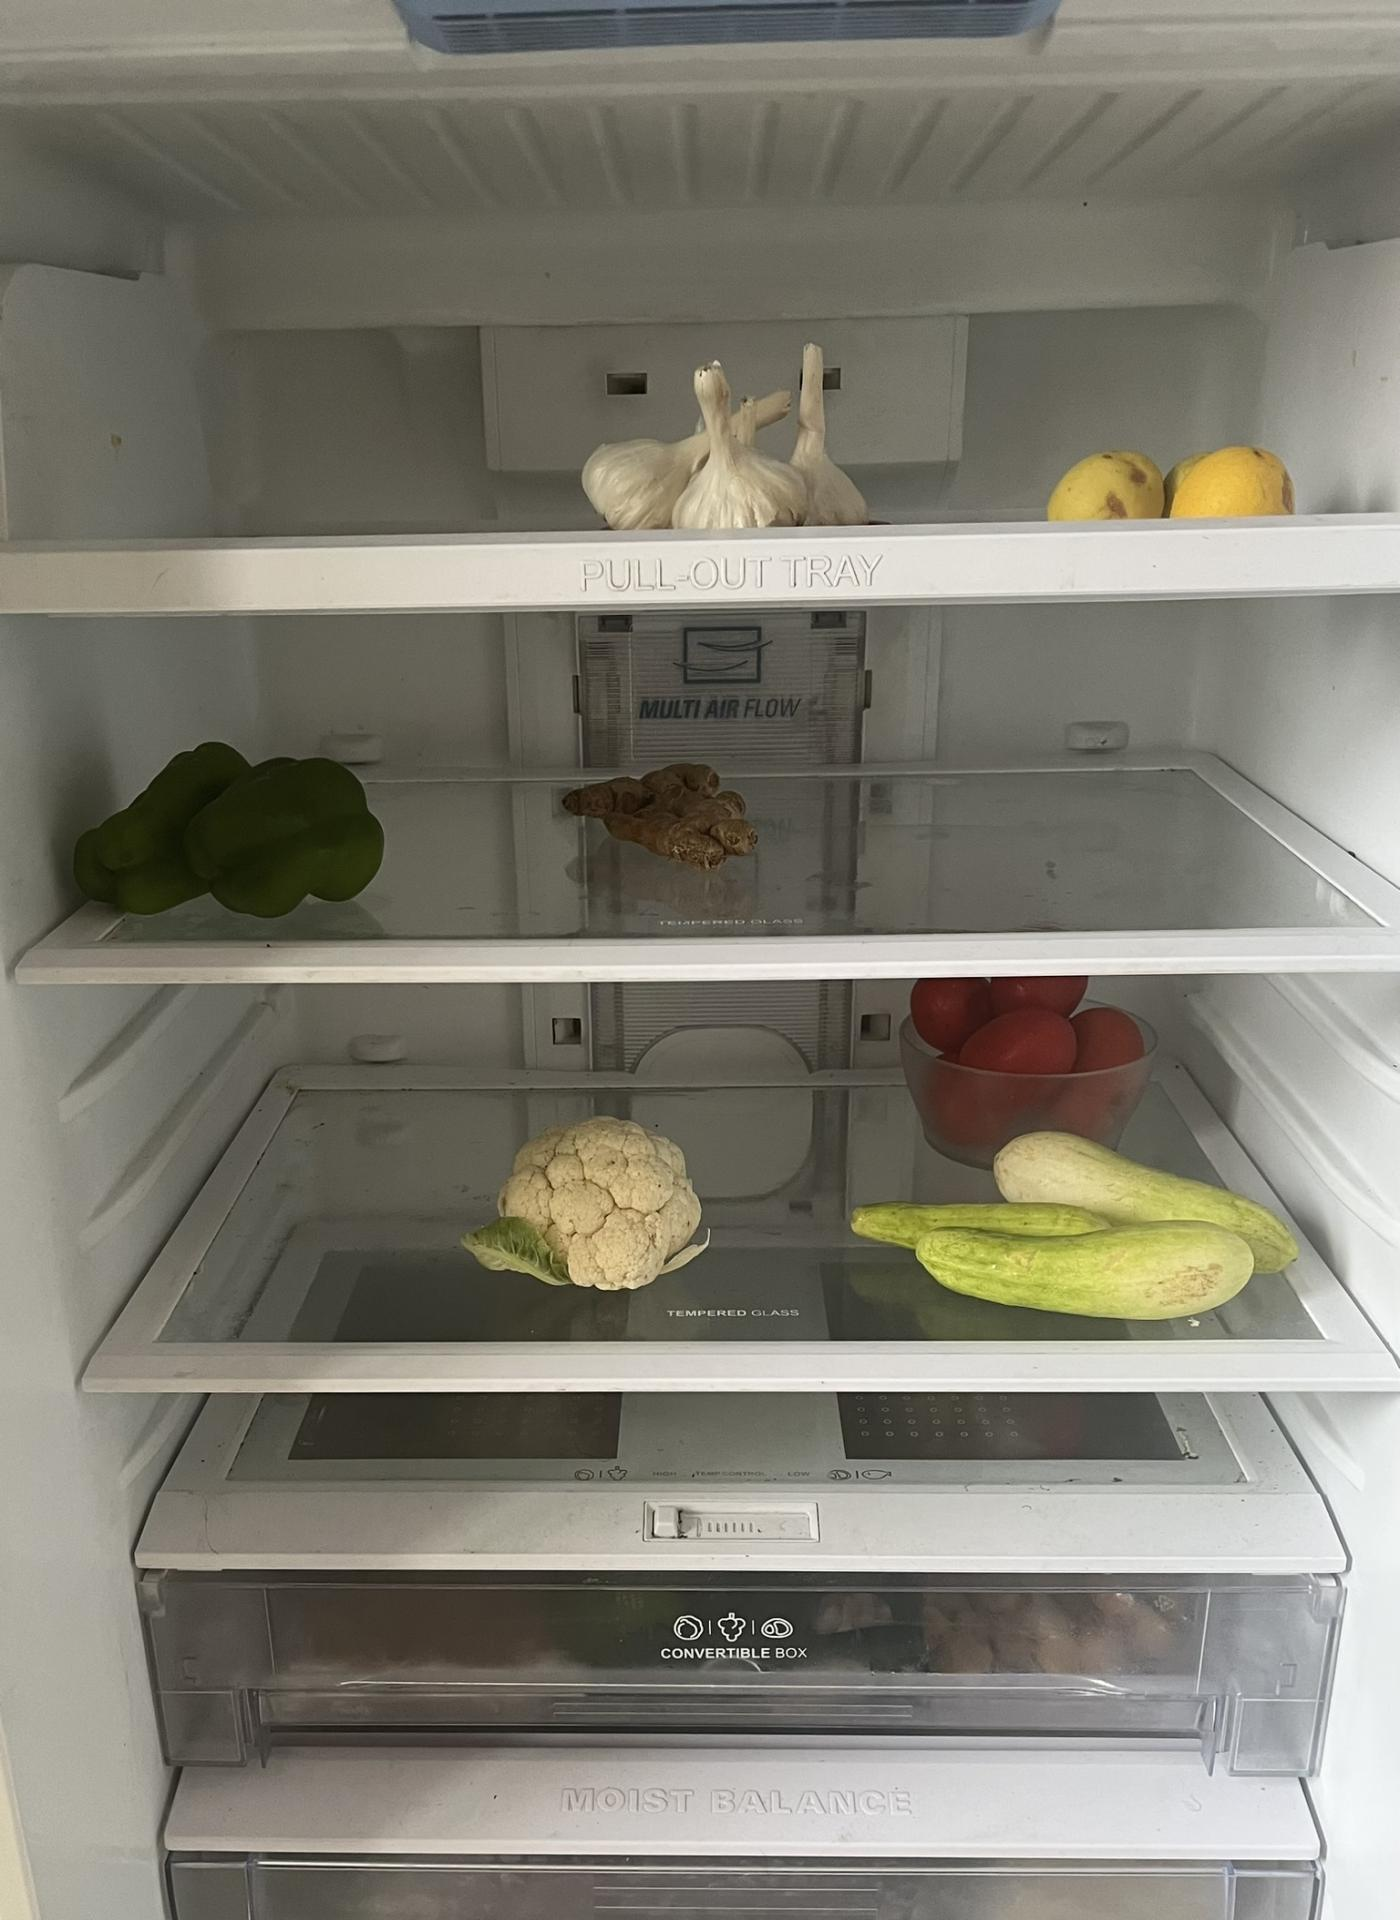capsicum: (64, 726, 398, 915)
cauliflower: (468, 1112, 738, 1294)
cucumber: (838, 1131, 1324, 1325)
garlic: (574, 350, 878, 528)
ginger: (556, 759, 769, 881)
lemon: (1051, 425, 1306, 528)
tomato: (902, 981, 1173, 1125)
